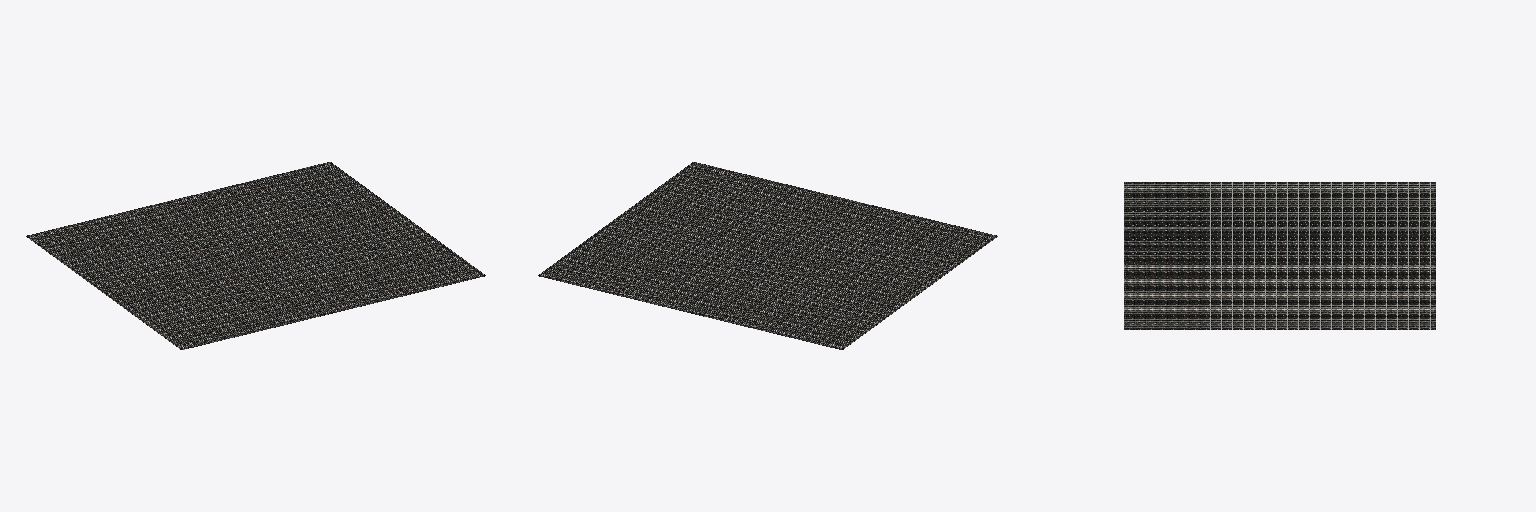
The picture shows the model from 3 angles: view 1: azimuth 30°, elevation 25°; view 2: azimuth 150°, elevation 25°; view 3: azimuth 270°, elevation 25°; orthographic projection.
Visible parts, largest first — view 1: pPlane1; view 2: pPlane1; view 3: pPlane1.
Part boxes in pixels (x1,y1,x2,y2): pPlane1: (26,162,485,349); pPlane1: (538,162,997,349); pPlane1: (1124,182,1435,329).
Size of the model in its own units: 54.8 by 0 by 48.6.
1 materials, 1 textured.